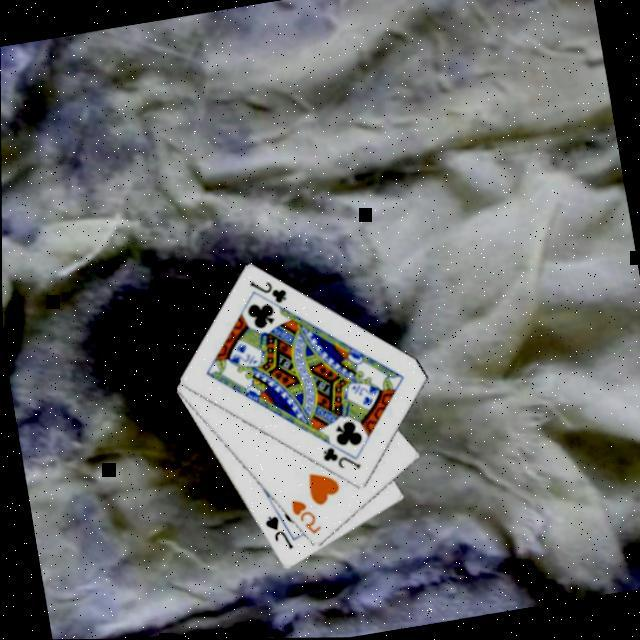5H: (287, 496, 326, 542)
JC: (318, 442, 364, 480), (246, 276, 292, 314)
JS: (261, 512, 297, 558)
